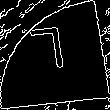L_S: (34, 28, 76, 82)
